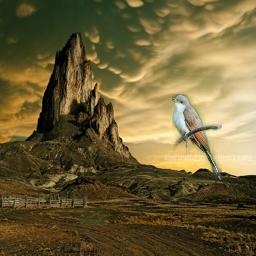Cuckoo: (172, 94, 222, 180)
